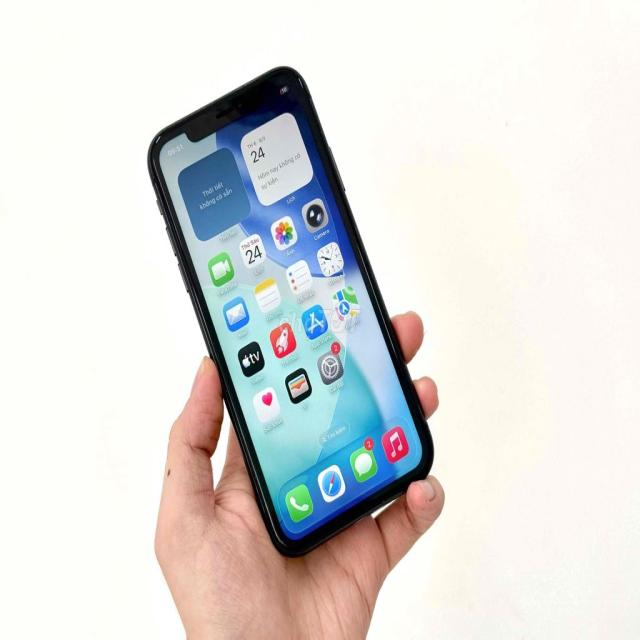gen_11: (142, 64, 436, 556)
